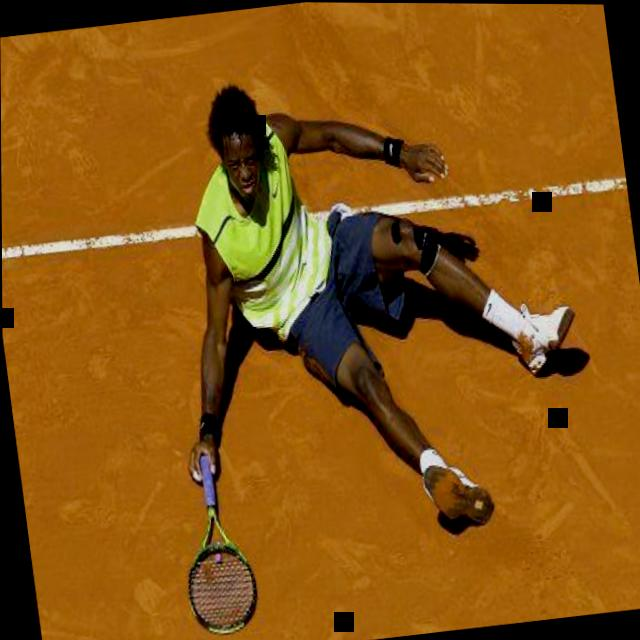Fall-Detected: (131, 38, 623, 522)
